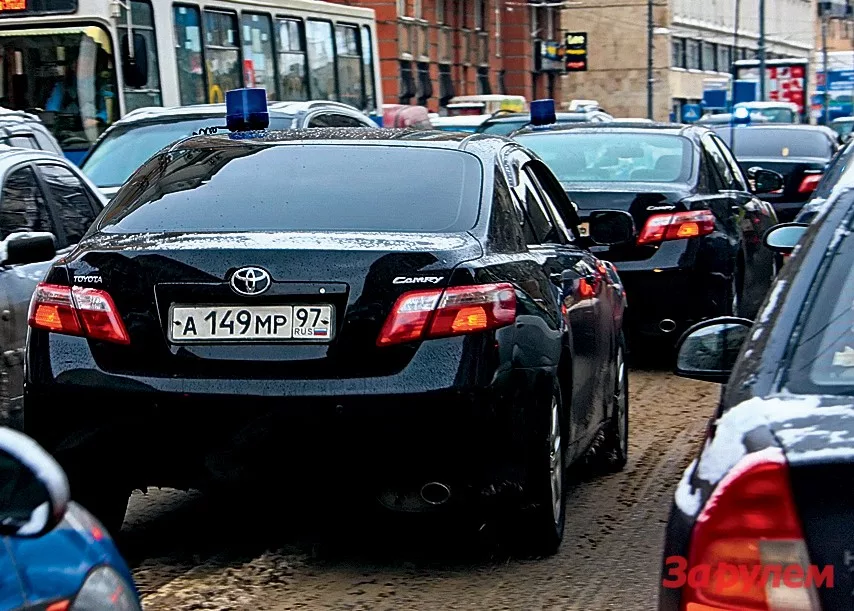number_plate: (170, 301, 340, 354)
